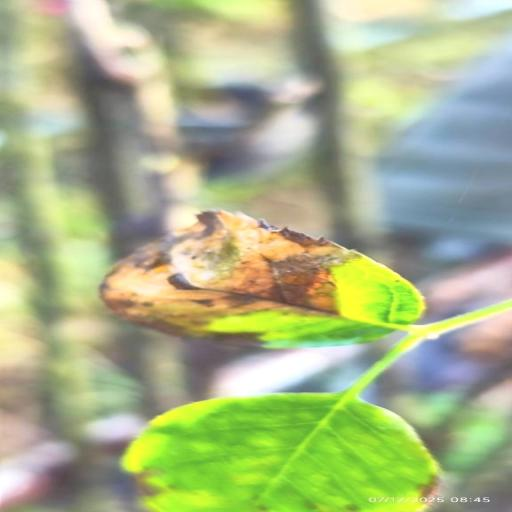thrip: (101, 210, 424, 347)
